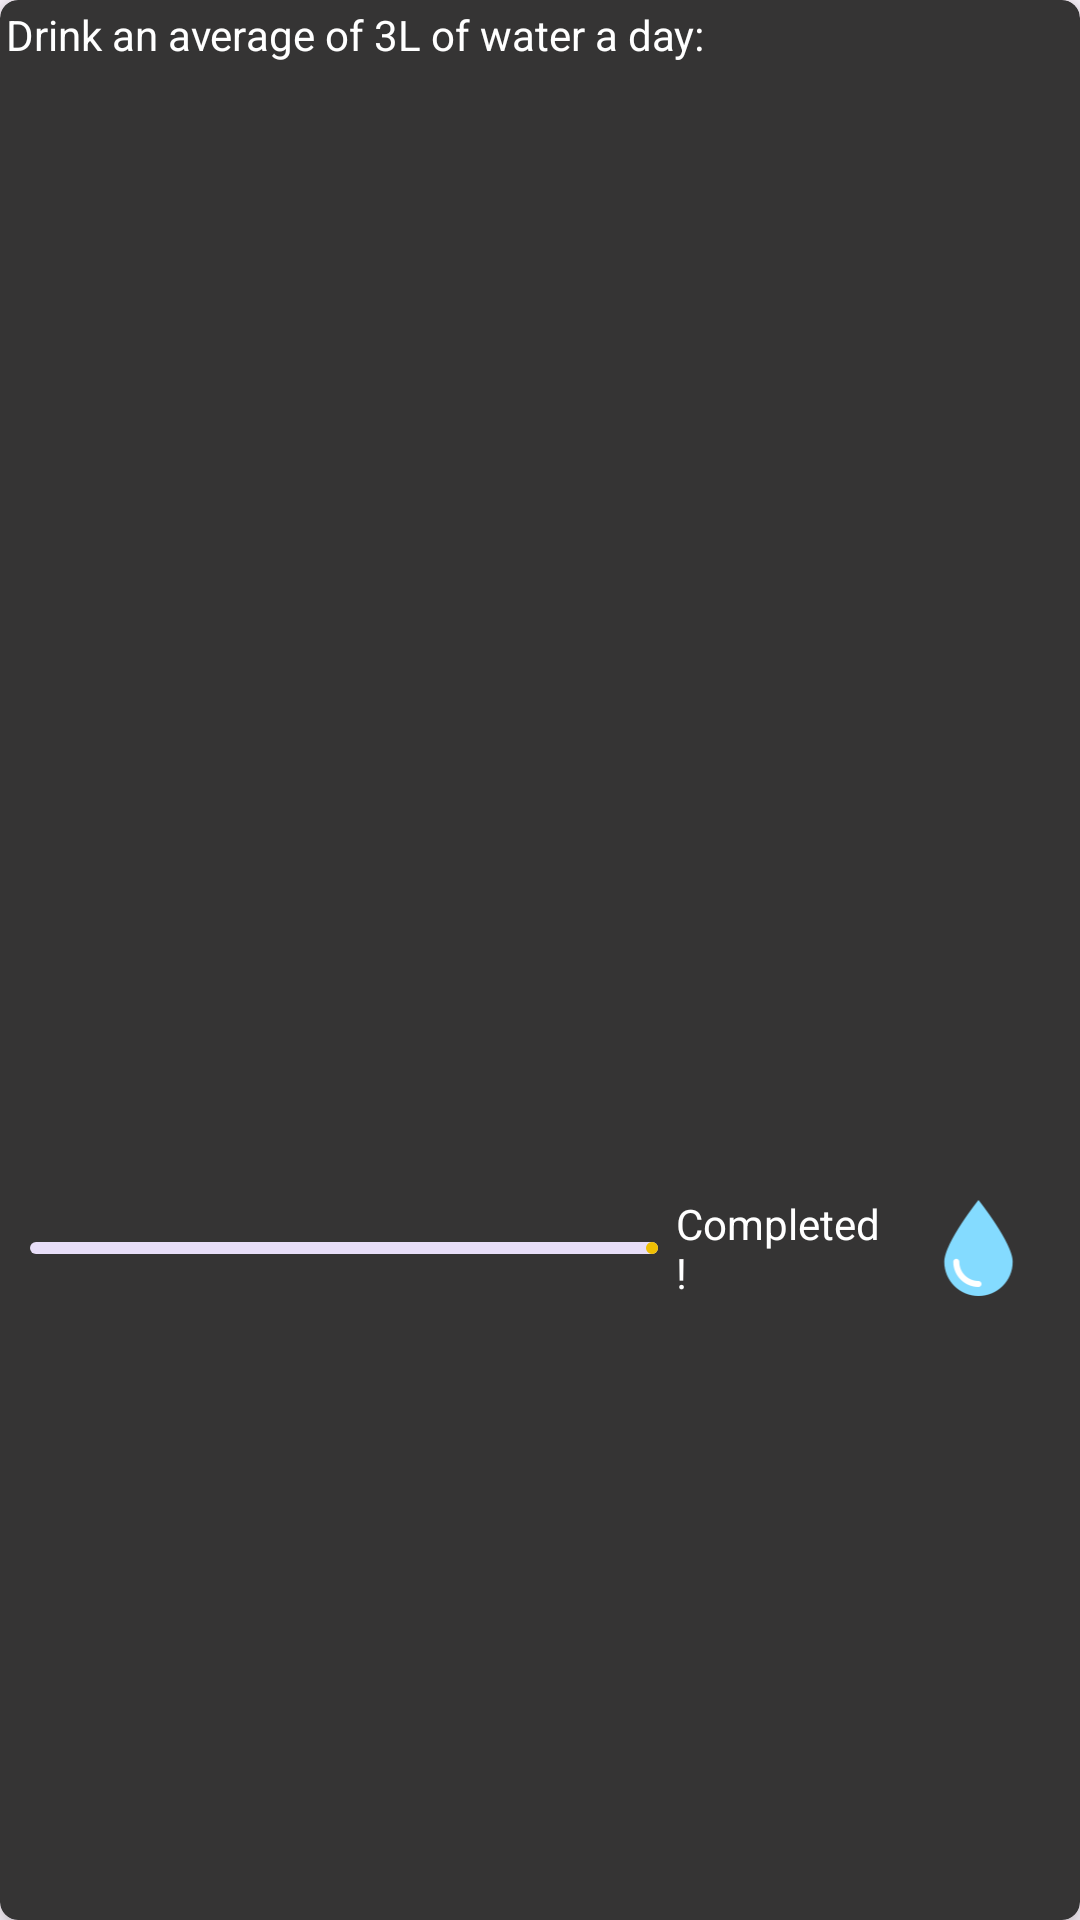

Where icons sit on this 1080px x 1920px app screen, as region(x1, y1, x2, y2):
water habit symbol: region(944, 1200, 1013, 1296)
